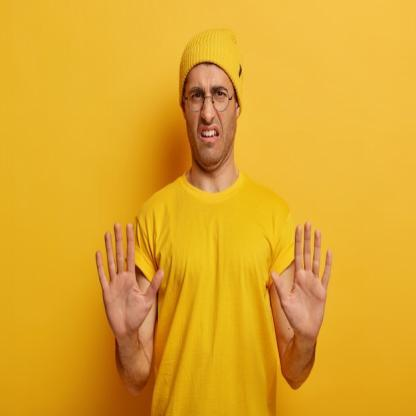stop: (94, 220, 167, 344), (270, 217, 336, 342)
